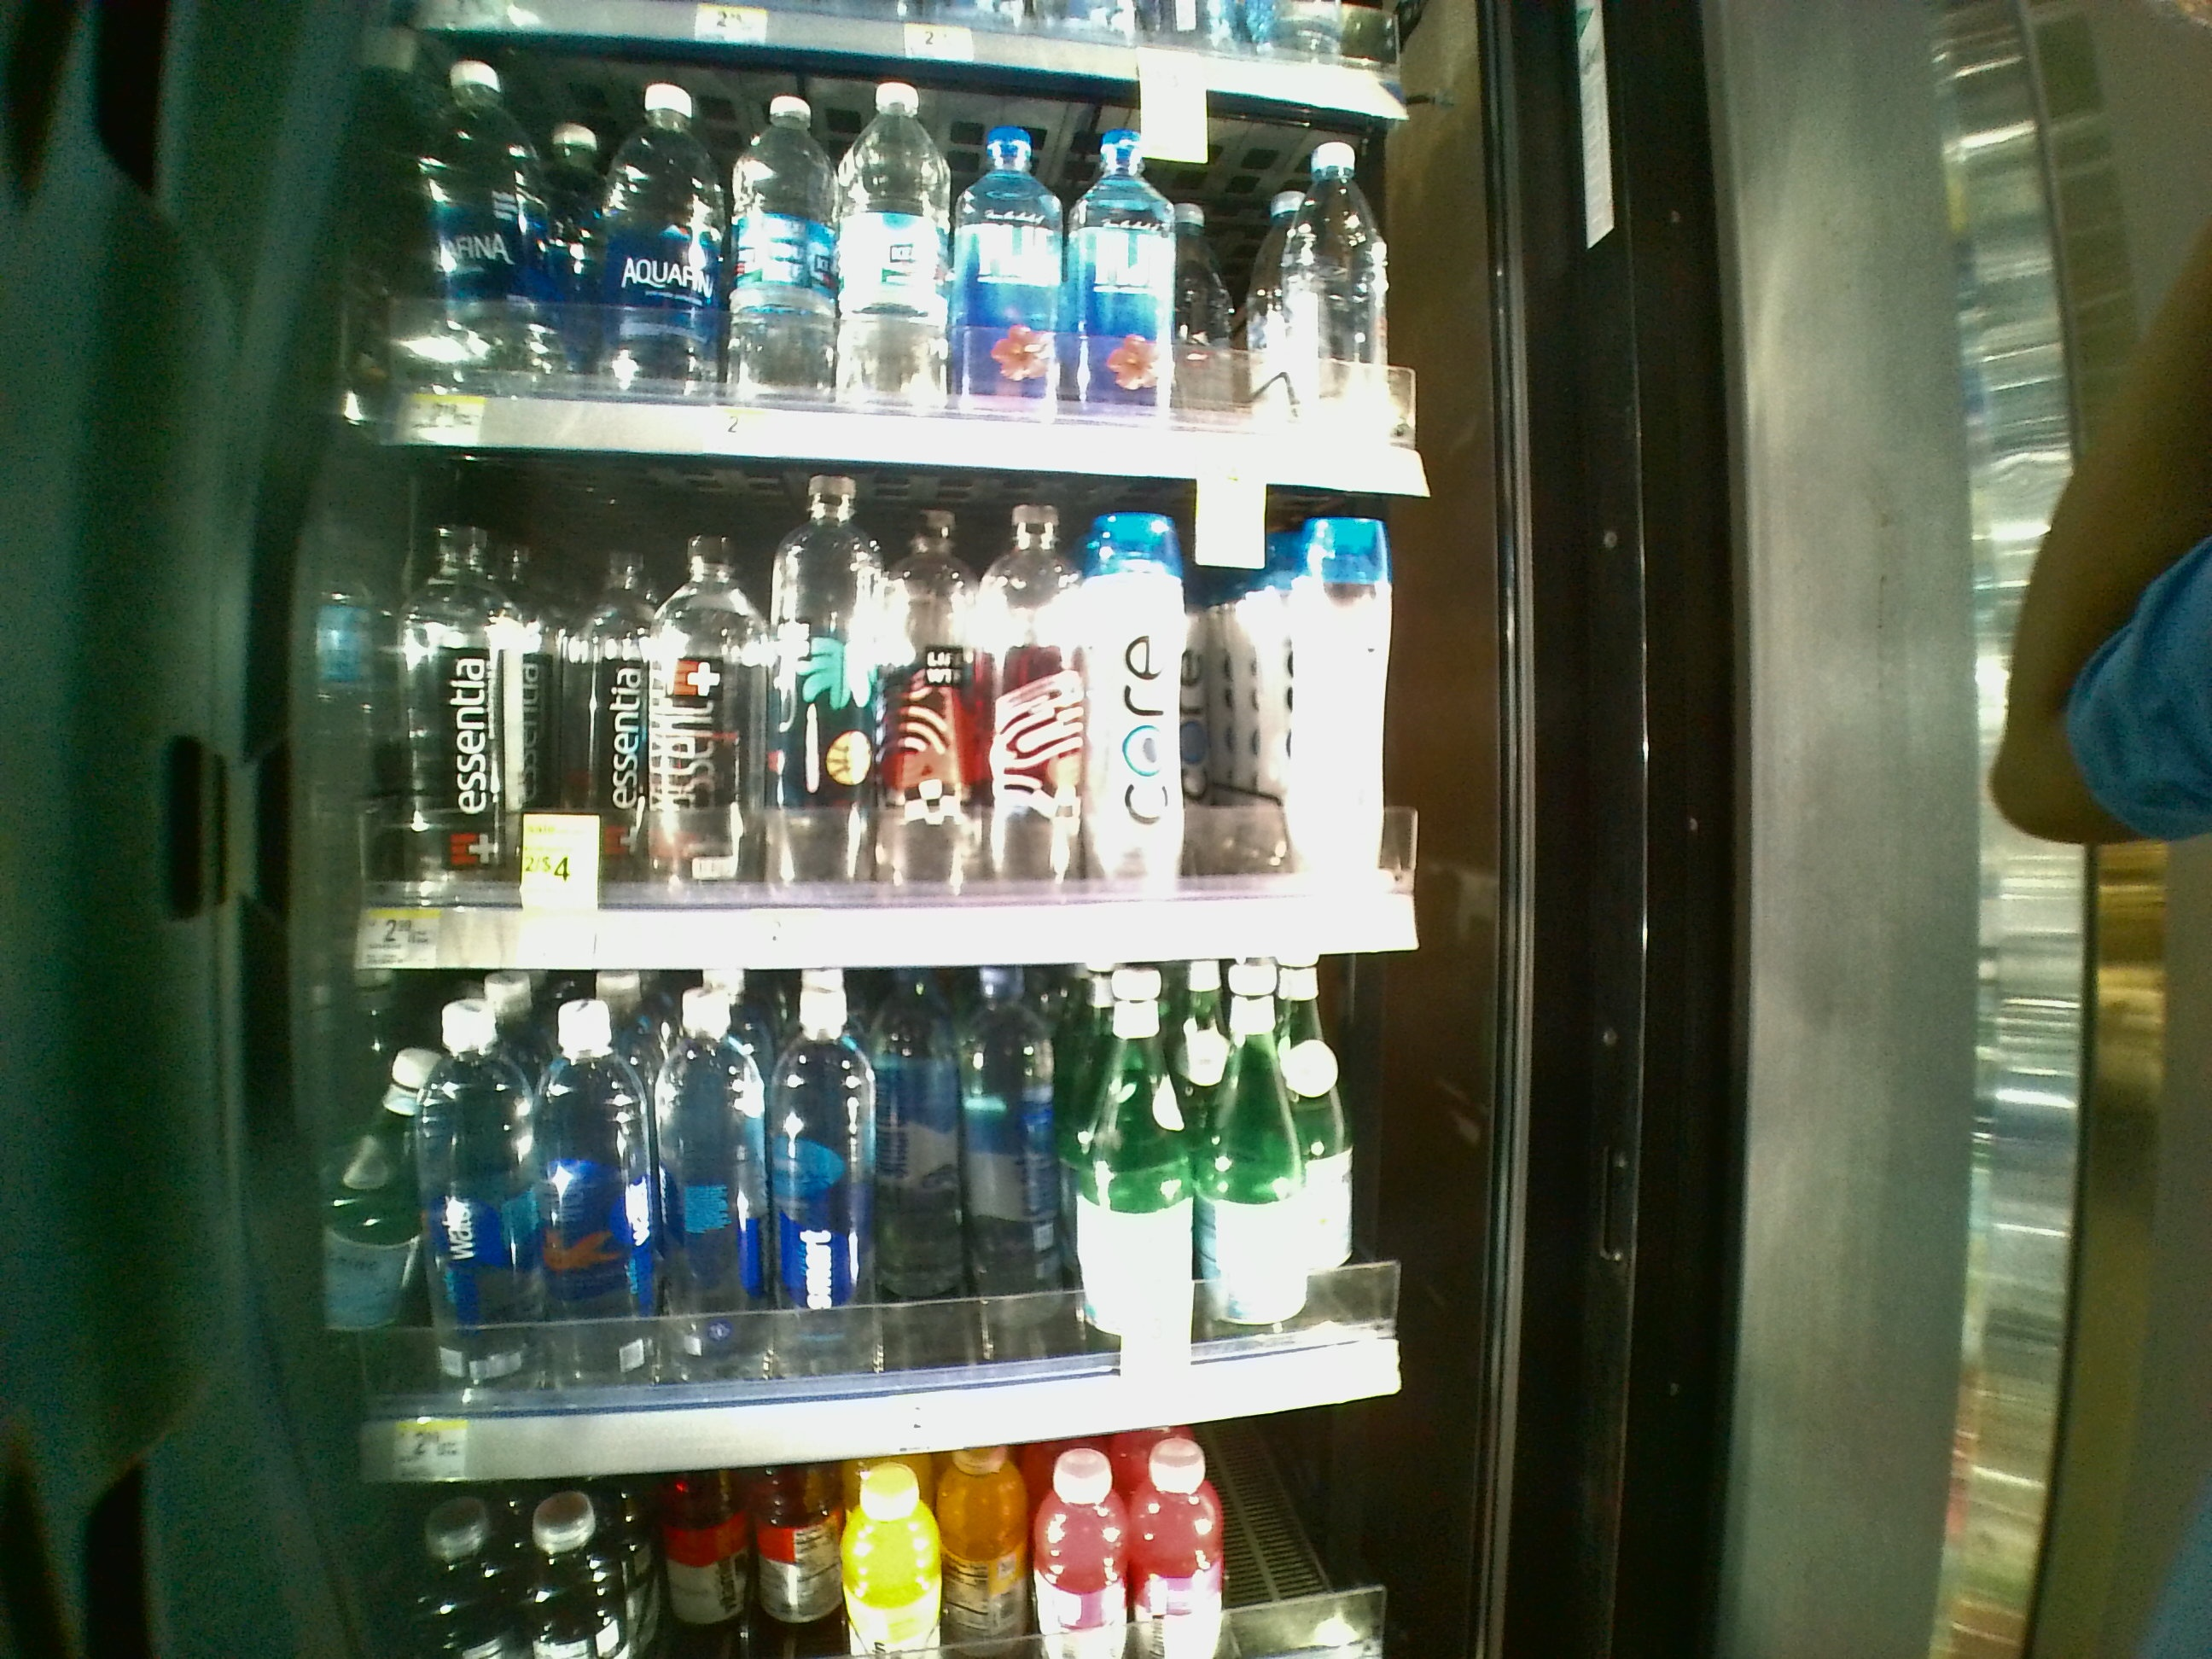shelf: (348, 958, 1508, 1486), (348, 33, 1501, 505), (347, 500, 1508, 964)
